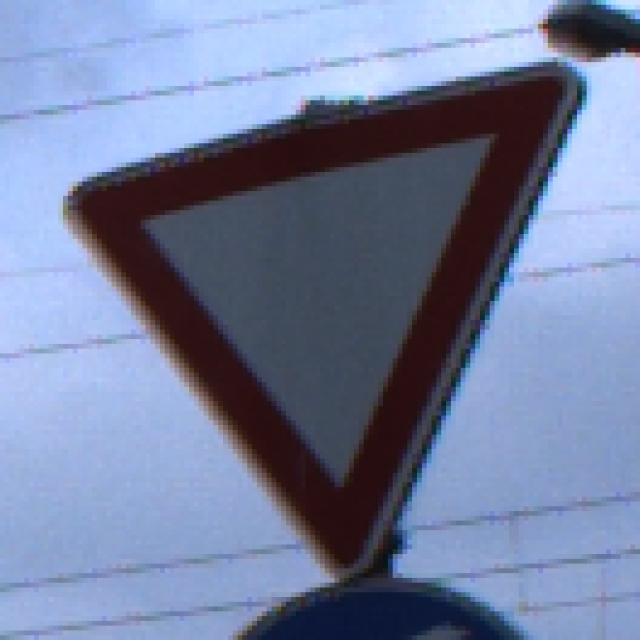give way: (64, 60, 586, 576)
